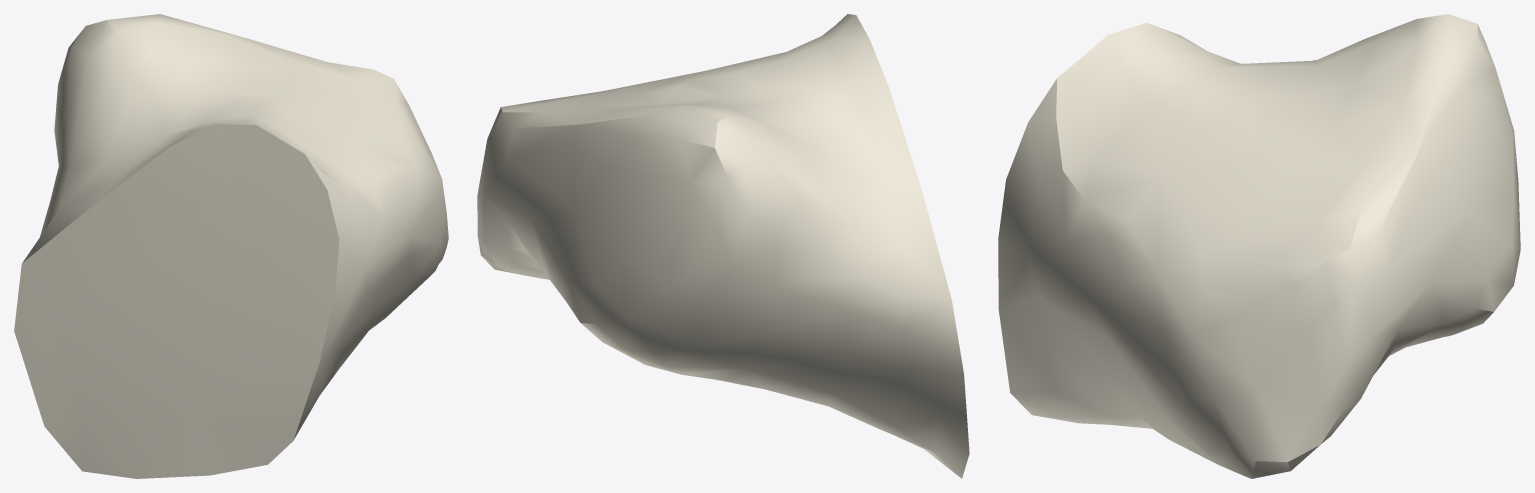
Rendered from fma12094_mm2397.glb.
3 views of the same model, side by side, from view 1: azimuth 30°, elevation 25°; view 2: azimuth 150°, elevation 25°; view 3: azimuth 270°, elevation 25° (orthographic). The views are drawn at different scales.
Parts seen in each view (by area): view 1: FMA12094_MM2397; view 2: FMA12094_MM2397; view 3: FMA12094_MM2397.
Boxes of the visible parts, bbox=[...] form: FMA12094_MM2397: bbox=[14, 14, 448, 478]; FMA12094_MM2397: bbox=[477, 14, 969, 478]; FMA12094_MM2397: bbox=[998, 14, 1520, 478].
Bounding box in the file's own units: 0.0137 × 0.0109 × 0.0117.
